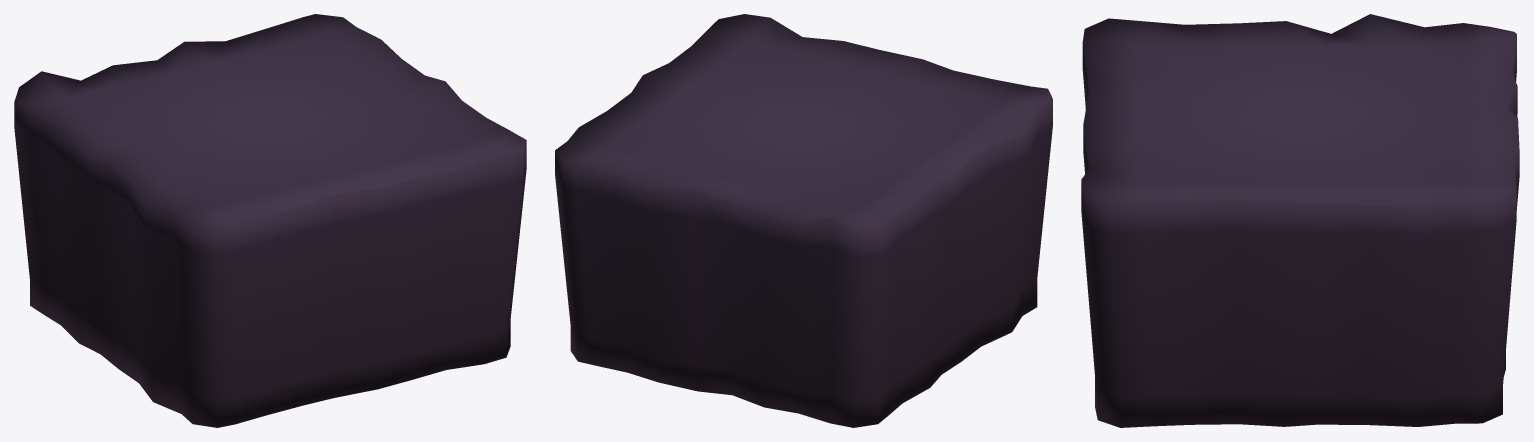
Rendered from Modular_Ground.fbx.
3 renders of one model, left to right at view 1: azimuth 30°, elevation 25°; view 2: azimuth 150°, elevation 25°; view 3: azimuth 270°, elevation 25°, orthographic. The views are drawn at different scales.
Parts seen in each view (by area): view 1: Modular_Ground; view 2: Modular_Ground; view 3: Modular_Ground.
Boxes of the visible parts, <box> form: Modular_Ground: <box>14,14,526,427</box>; Modular_Ground: <box>555,14,1052,427</box>; Modular_Ground: <box>1081,14,1519,427</box>.
Bounding box in the file's own units: 2076 × 1229 × 2056.
